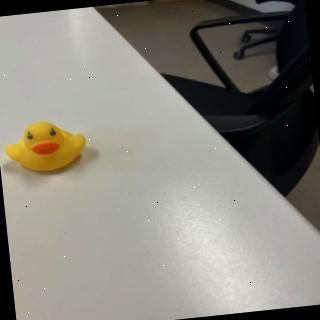duck_regular: (3, 117, 91, 177)
